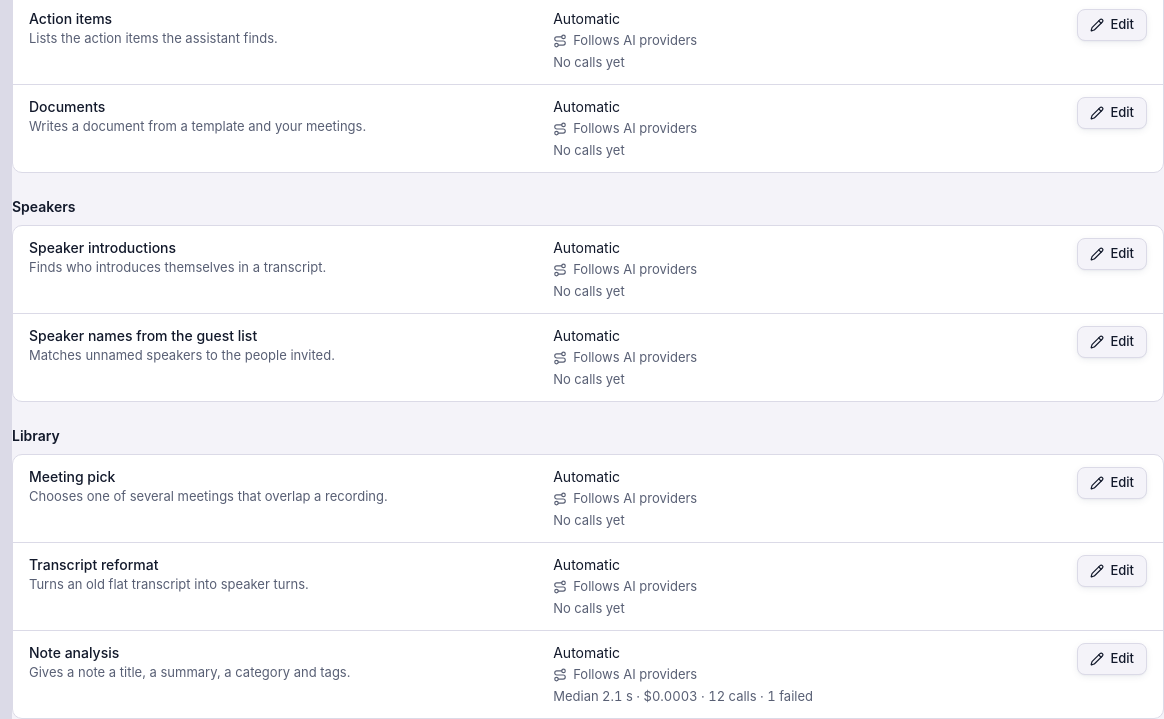
Test: PipelineSection › reloads the state after a save and closes the editor
The image size is (1164, 719).
(page scrolled)
Click the button with aria-label "Edit Note analysis" at (1112, 659), box left=1077, top=643, right=1147, bottom=675
(page scrolled)
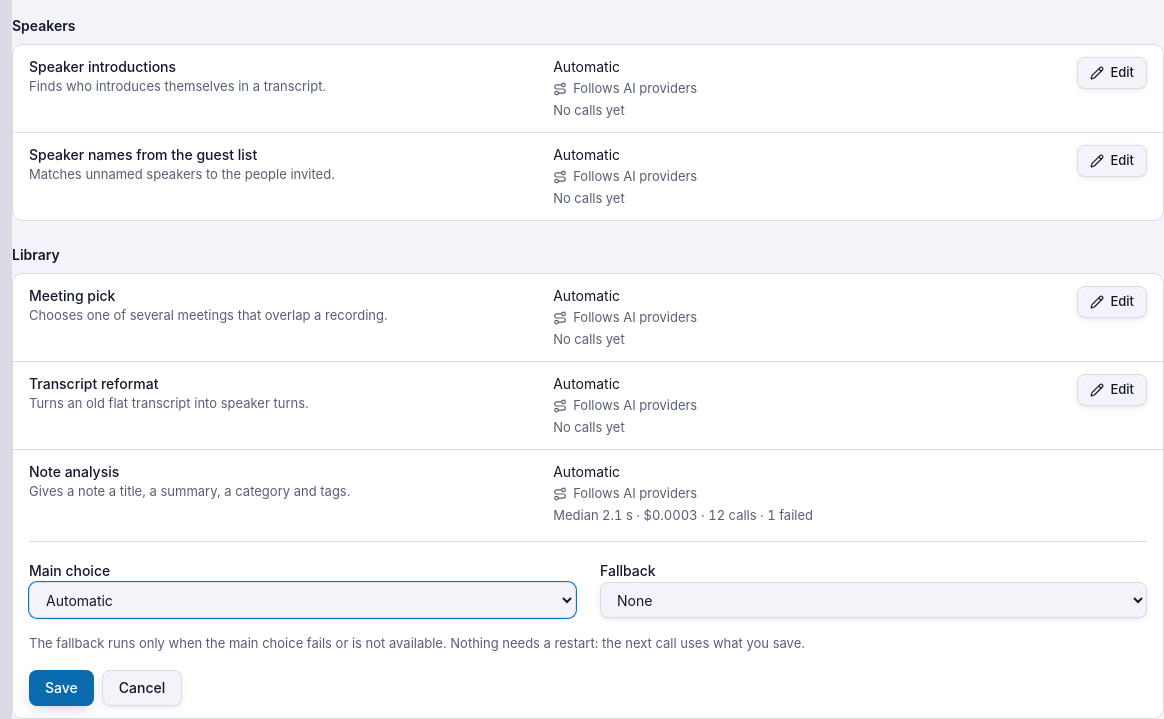
Select "Ollama" in the dropdown labelled "Main choice" at (302, 600), box left=29, top=582, right=576, bottom=618
(page scrolled)
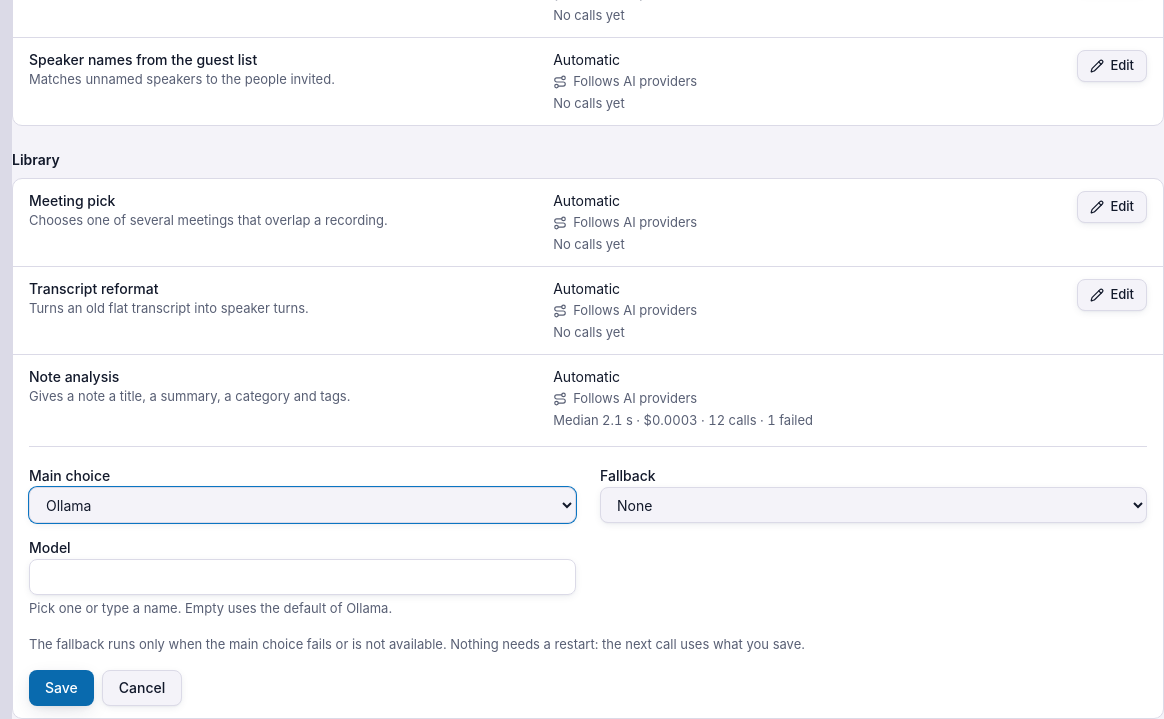
Click the button "Save" at (61, 688), box left=29, top=670, right=94, bottom=706
(page scrolled)
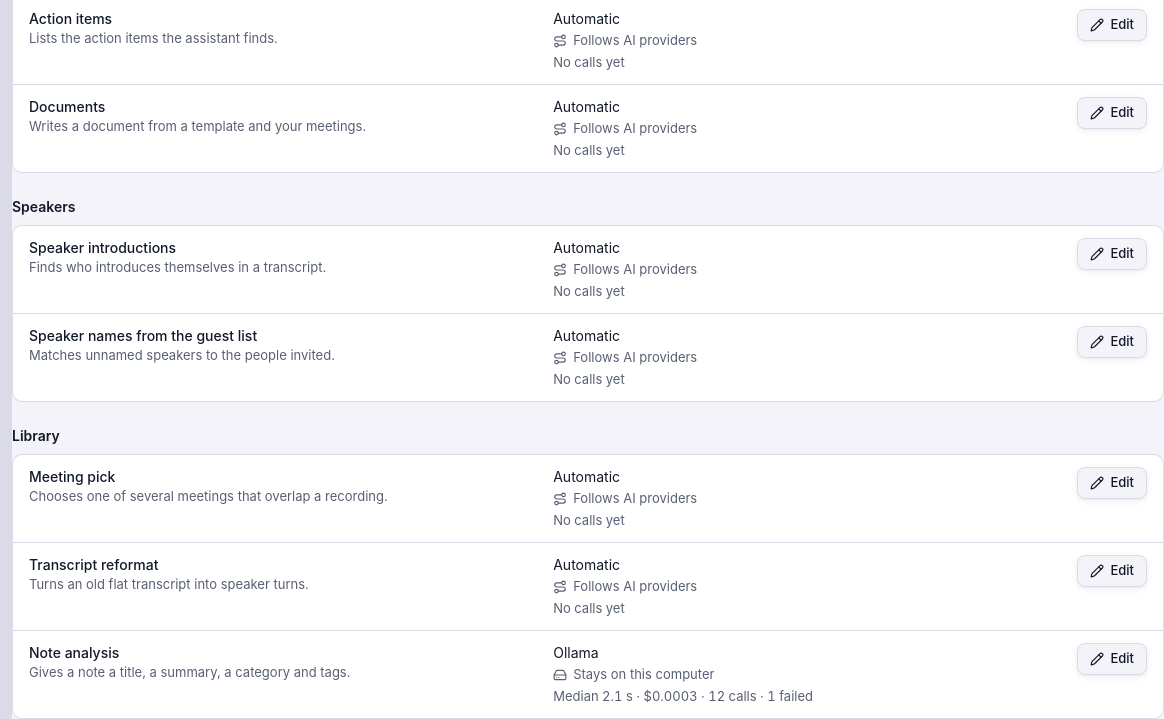
Result: the text "Ollama" is shown at left=553, top=644, right=599, bottom=661
Result: the label labelled "Main choice" is gone
Result: the text "Stays on this computer" is shown at left=553, top=666, right=714, bottom=682
